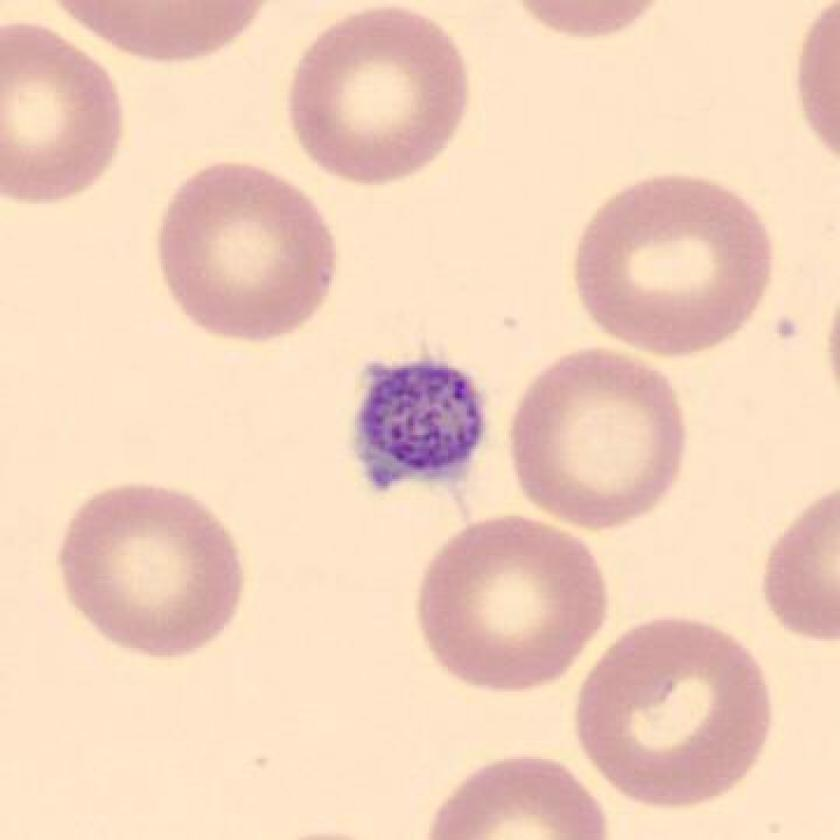platelets: (339, 341, 498, 503)
